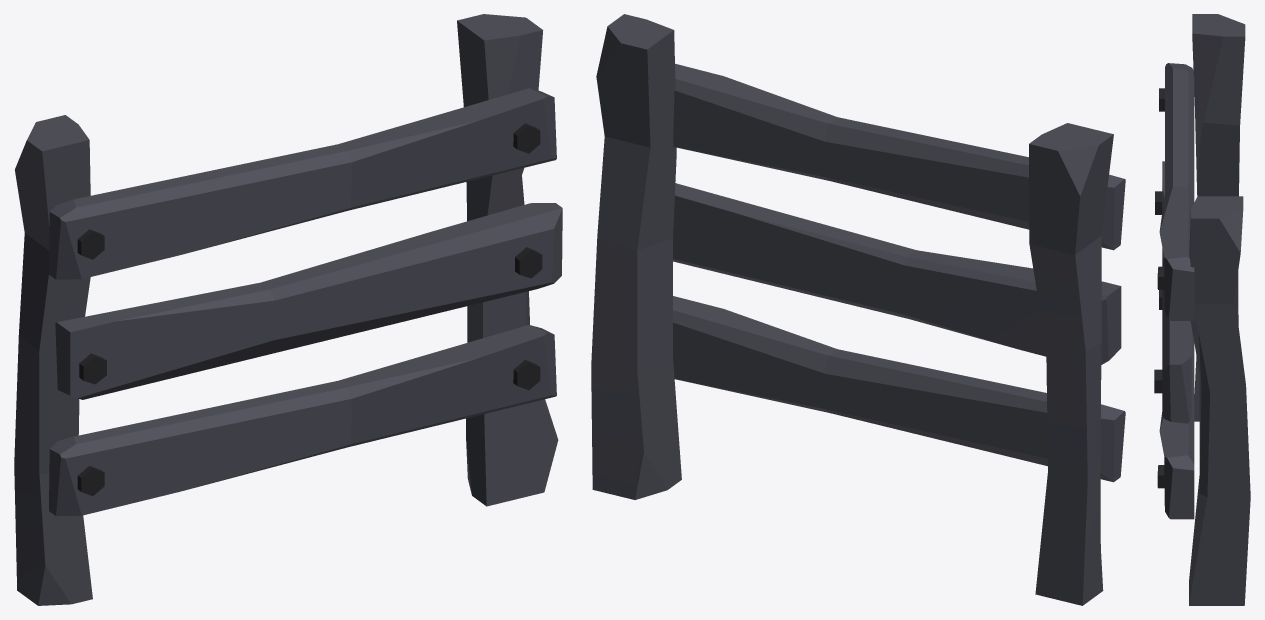
File: Fence_2.fbx
3 renders of one model, left to right at view 1: azimuth 30°, elevation 25°; view 2: azimuth 150°, elevation 25°; view 3: azimuth 270°, elevation 25°, orthographic. The views are drawn at different scales.
Parts seen in each view (by area): view 1: Fence_2; view 2: Fence_2; view 3: Fence_2.
Part boxes in pixels (x1,y1,x2,y2): Fence_2: (14,14,562,605); Fence_2: (591,14,1125,605); Fence_2: (1154,14,1250,605).
Size of the model in its own units: 44.77 by 38.12 by 8.61.
